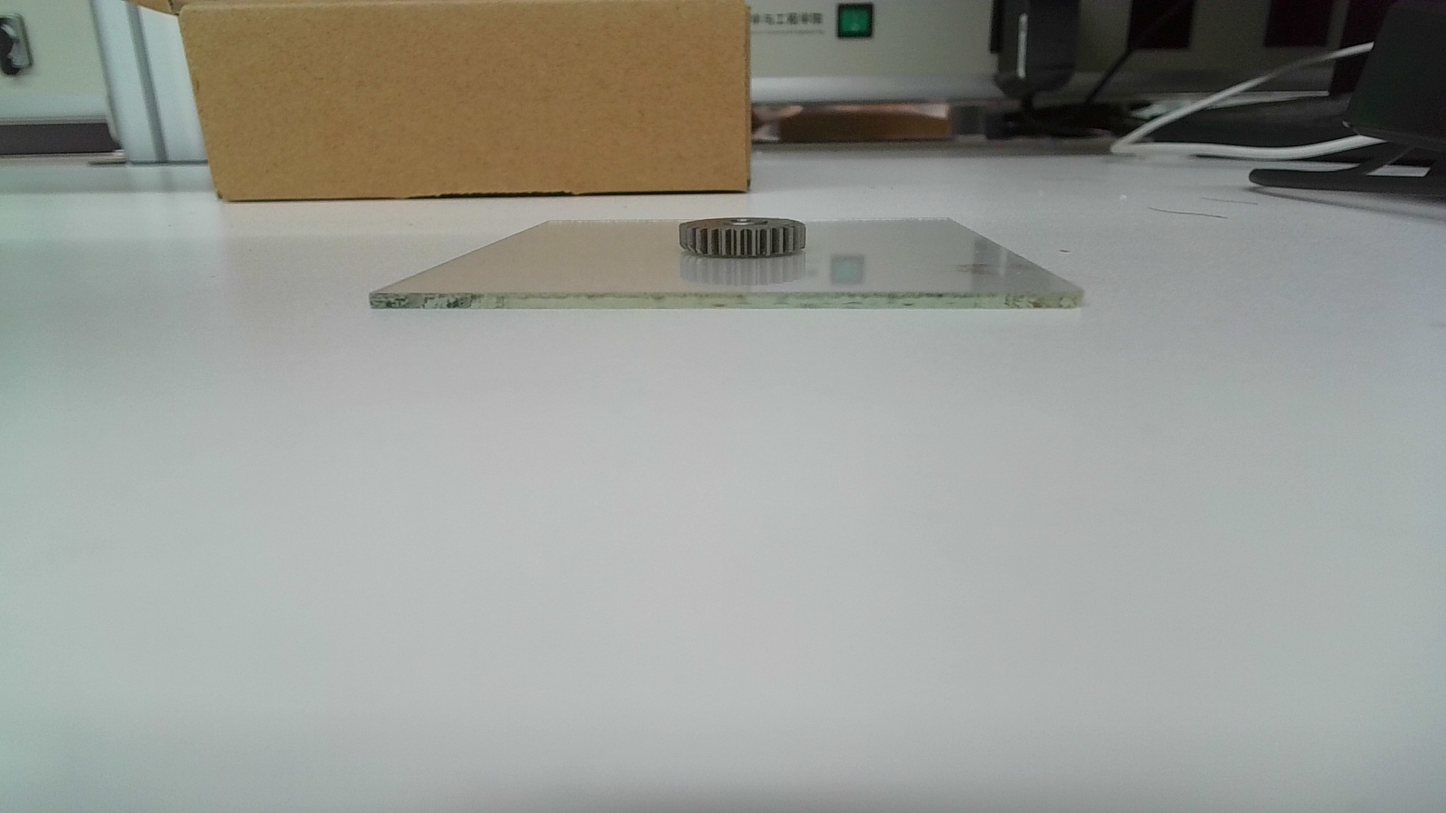gear: (677, 216, 811, 261)
